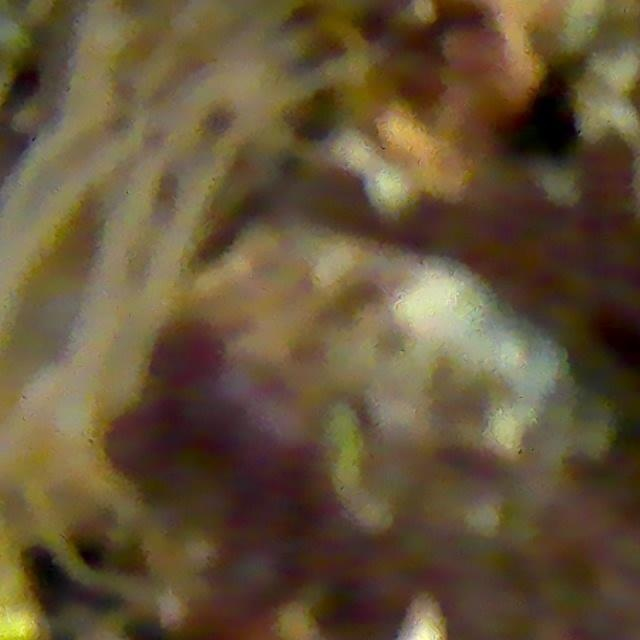SeaGrape: (0, 17, 30, 57)
